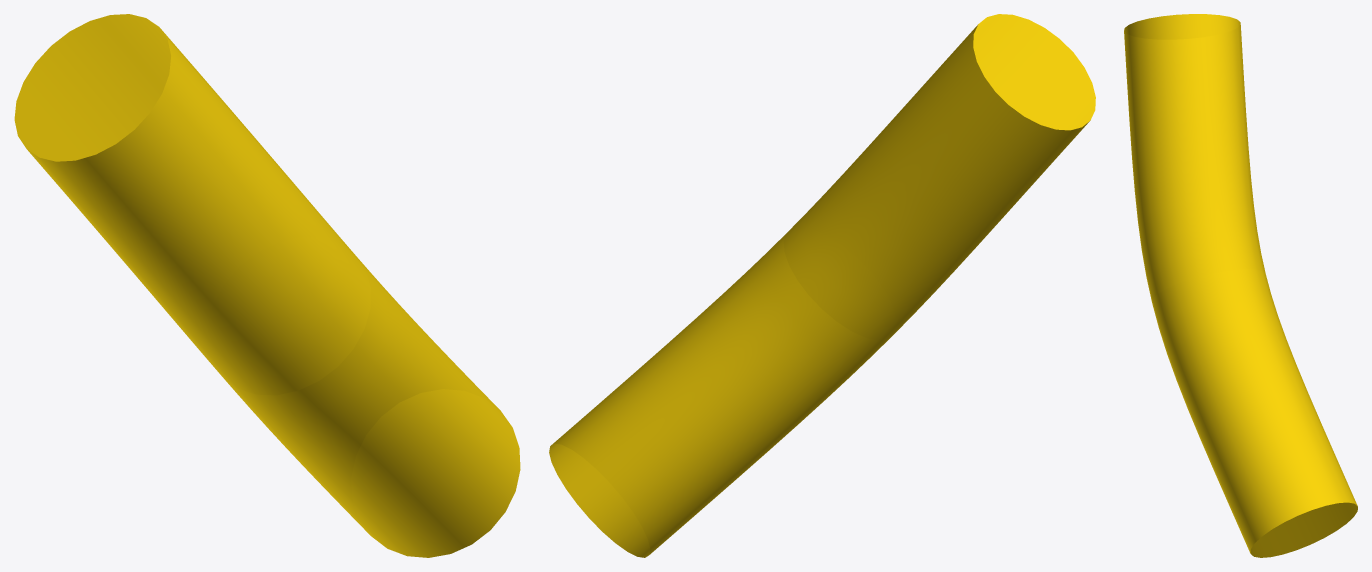
The model's file is Event_421115418_track_167.fbx.
3 views of the same model, side by side, from view 1: azimuth 30°, elevation 25°; view 2: azimuth 150°, elevation 25°; view 3: azimuth 270°, elevation 25° (orthographic). The views are drawn at different scales.
Parts seen in each view (by area): view 1: Model; view 2: Model; view 3: Model.
Boxes of the visible parts, box(x1,y1,x2,y2) form: Model: box(14, 14, 520, 557); Model: box(549, 14, 1095, 557); Model: box(1124, 14, 1357, 557).
Size of the model in its own units: 0.1434 by 0.1638 by 0.0797.
